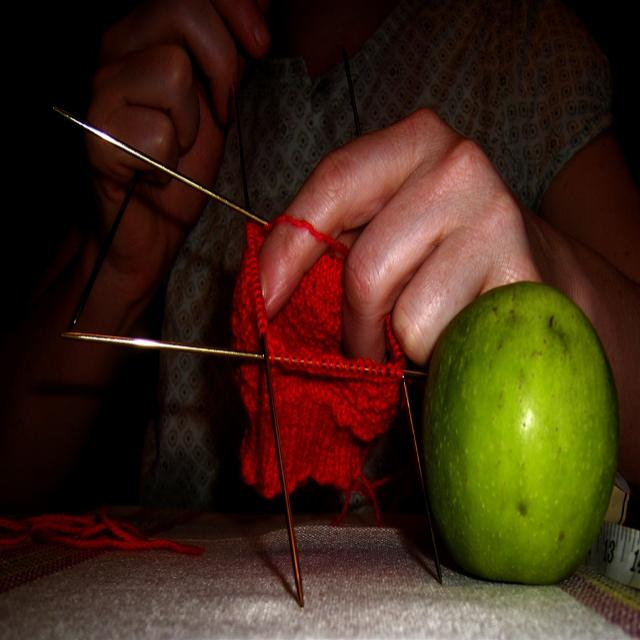Healty Apple: (418, 300, 612, 595)
